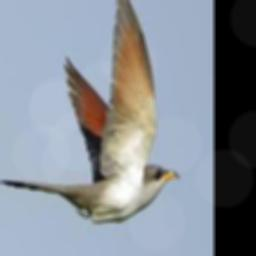Cuckoo: (1, 0, 178, 221)
